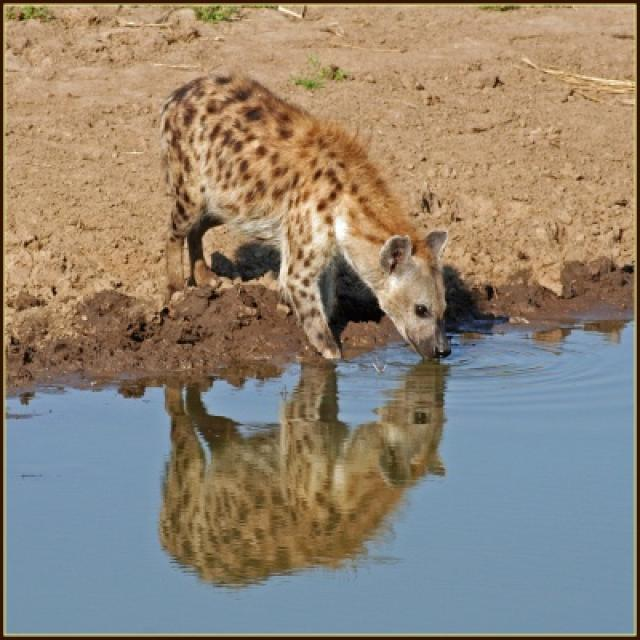hyena: (162, 75, 448, 362)
